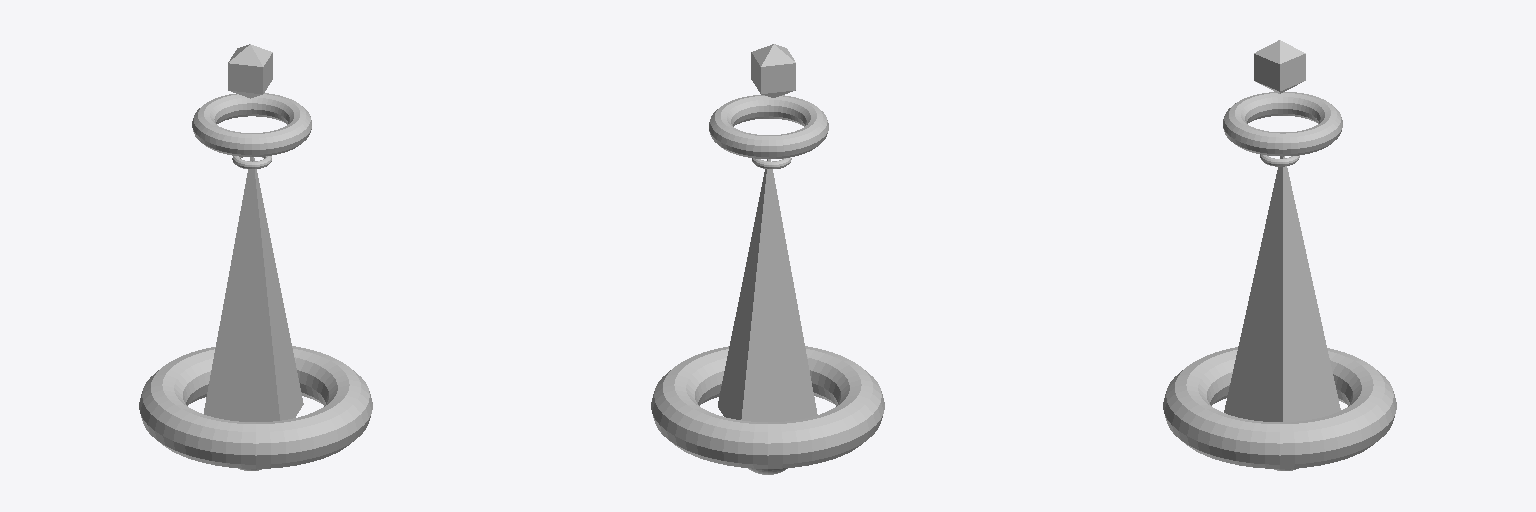
Rendered from arm.obj.
The picture shows the model from 3 angles: view 1: azimuth 30°, elevation 25°; view 2: azimuth 150°, elevation 25°; view 3: azimuth 270°, elevation 25°; orthographic projection.
Visible parts, largest first — view 1: Torus, Cone_Cone.001, Torus.002, Sphere.002_Sphere.001; view 2: Torus, Cone_Cone.001, Torus.002, Sphere.002_Sphere.001; view 3: Cone_Cone.001, Torus, Torus.002, Sphere.002_Sphere.001.
Part boxes in pixels (x1,y1,x2,y2): Torus: (139,346,372,468); Cone_Cone.001: (204,157,303,421); Torus.002: (192,93,311,156); Sphere.002_Sphere.001: (228,44,272,98); Torus: (651,346,884,468); Cone_Cone.001: (718,159,817,421); Torus.002: (709,95,828,158); Sphere.002_Sphere.001: (751,44,795,97); Cone_Cone.001: (1224,156,1340,421); Torus: (1163,347,1396,468); Torus.002: (1223,92,1342,156); Sphere.002_Sphere.001: (1254,40,1305,93).
Bounding box in the file's own units: 102 × 205 × 102.